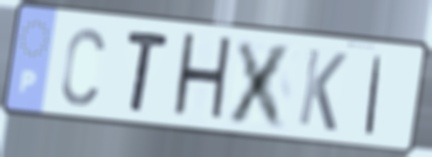C: (58, 23, 108, 109)
H: (169, 30, 235, 128)
I: (362, 52, 386, 138)
K: (295, 45, 350, 135)
T: (124, 27, 173, 116)
X: (223, 36, 299, 133)
